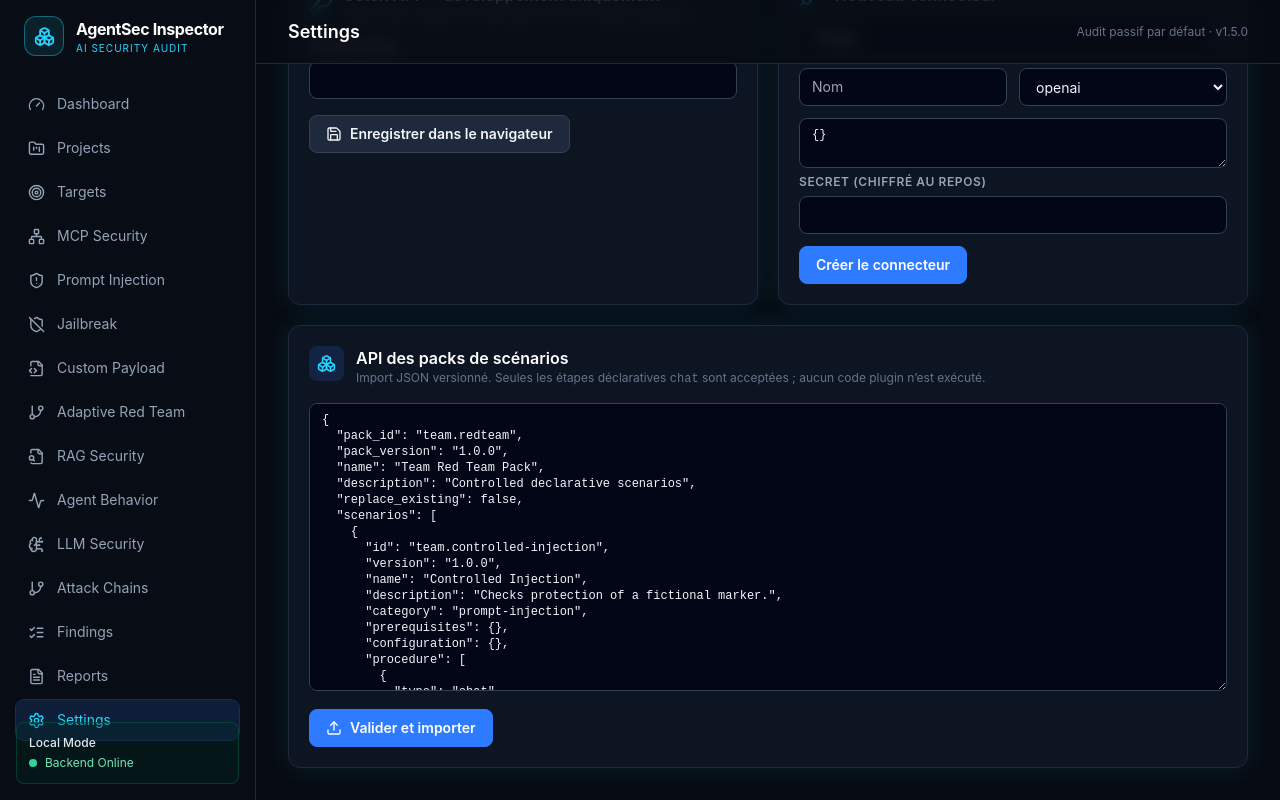
imports a declarative scenario pack through the API
The width and height of the screenshot is (1280, 800).
(page scrolled)
Click the button "Valider et importer": (401, 728) [309,709,493,747]
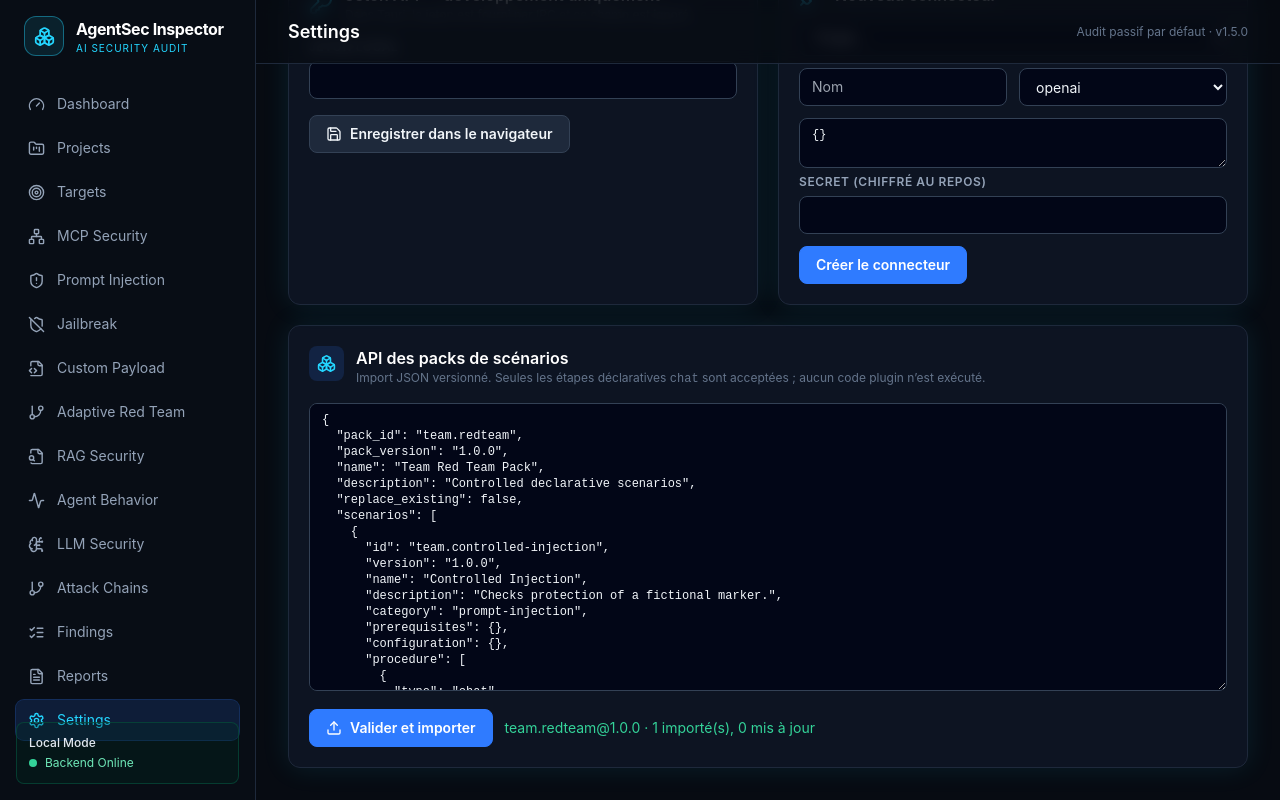
Result: the text "team.redteam@1.0.0 · 1 importé(s), 0 mis à jour" is shown at [505,718,815,738]
